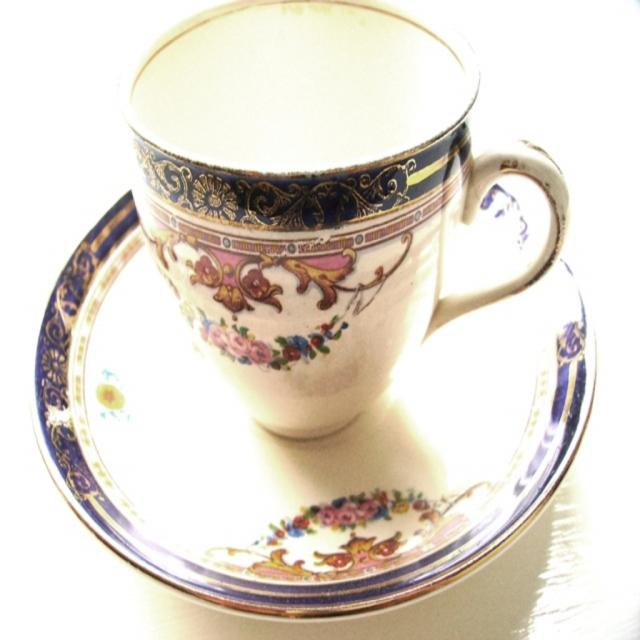non-organic waste: (126, 0, 572, 447)
